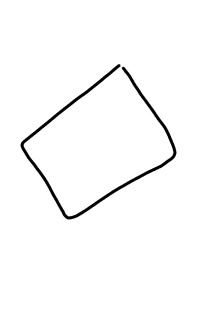Square: (15, 61, 180, 223)
